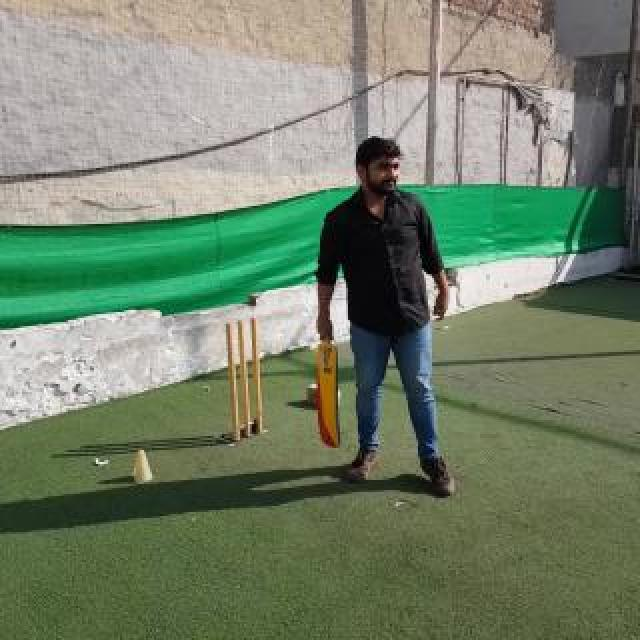bat: (317, 330, 341, 448)
